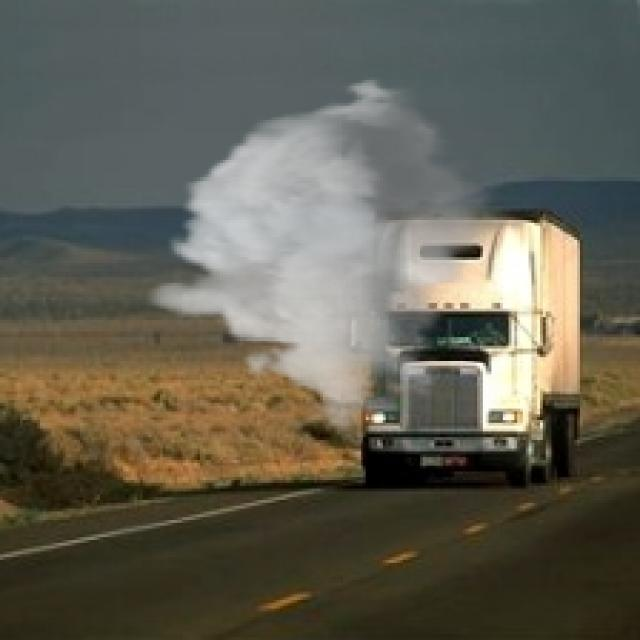smoke: (143, 74, 503, 432)
